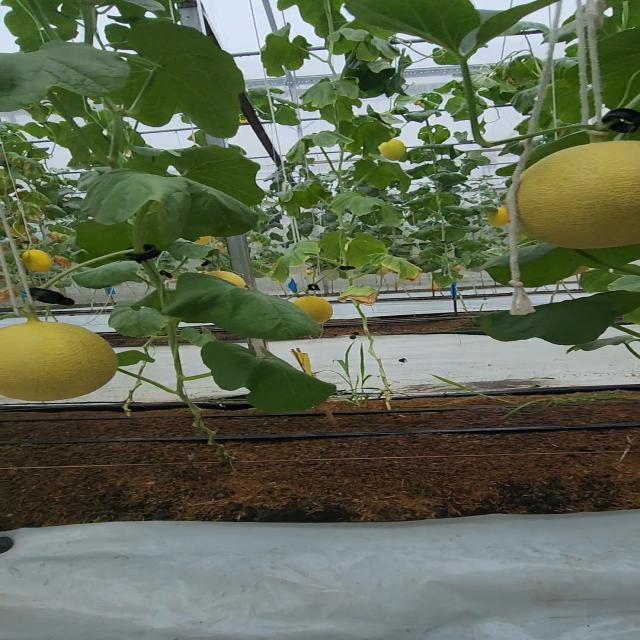Front-melon: (513, 140, 640, 249), (0, 322, 116, 401)
Rear-melon: (301, 297, 336, 321)
